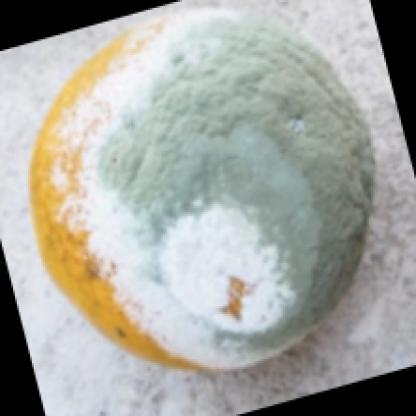rotten: (31, 18, 377, 374)
